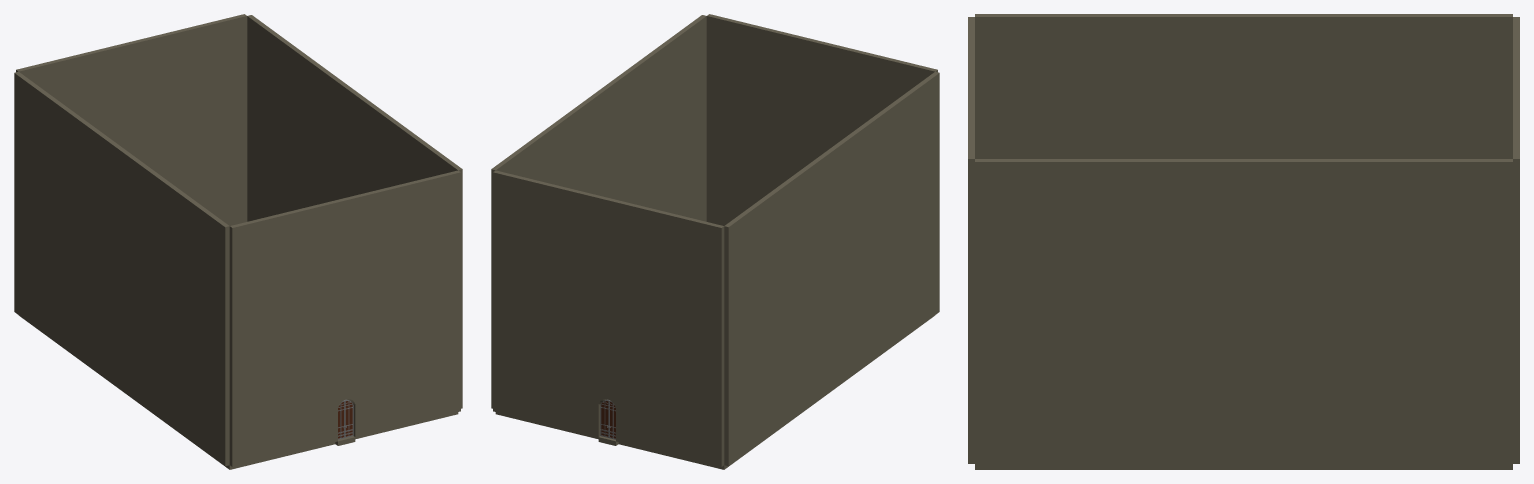
The model's file is Room.fbx.
3 views of the same model, side by side, from view 1: azimuth 30°, elevation 25°; view 2: azimuth 150°, elevation 25°; view 3: azimuth 270°, elevation 25° (orthographic). The views are drawn at different scales.
Parts seen in each view (by area): view 1: Walls, Room; view 2: Walls, Room; view 3: Walls, Room.
Part boxes in pixels (x1,y1,x2,y2): Walls: (14,14,462,419); Room: (14,207,462,469); Walls: (491,14,939,419); Room: (491,207,939,469); Walls: (968,14,1519,405); Room: (968,403,1519,469).
Size of the model in its own units: 2600 by 2550 by 4100.
